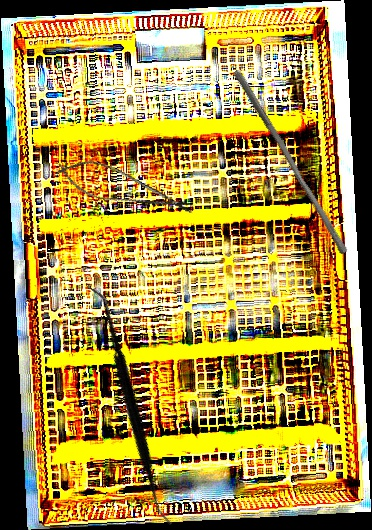Micro Scissor: (51, 151, 199, 225)
Pusher: (225, 68, 355, 256)
Spatula Surgical: (3, 283, 255, 528)
